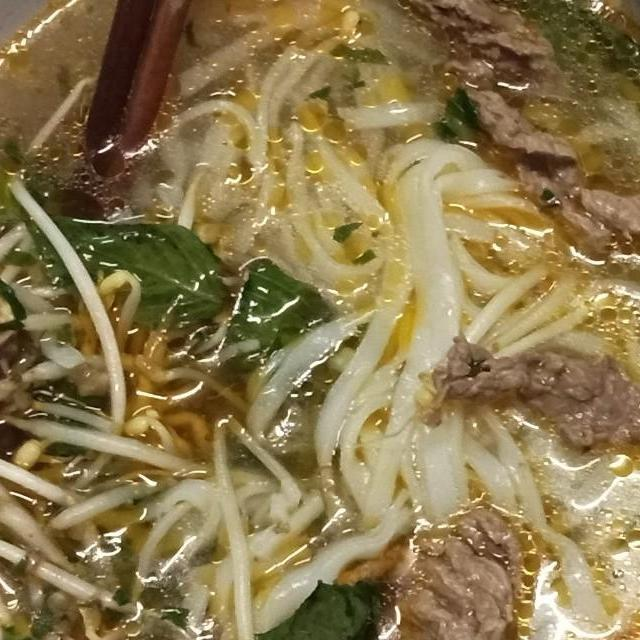banh pho: (128, 0, 440, 296), (332, 135, 584, 359), (292, 378, 552, 542)
pho bo: (0, 0, 640, 640)
thit bo: (432, 46, 640, 269), (406, 334, 640, 466), (366, 501, 537, 640), (393, 0, 577, 113)
